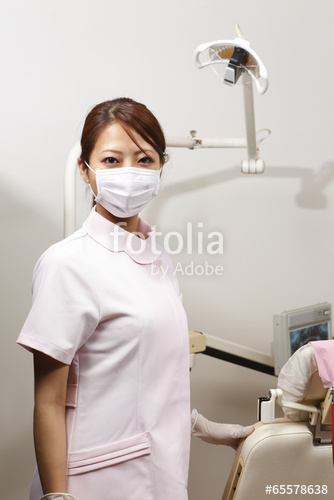mask: (92, 168, 162, 217)
